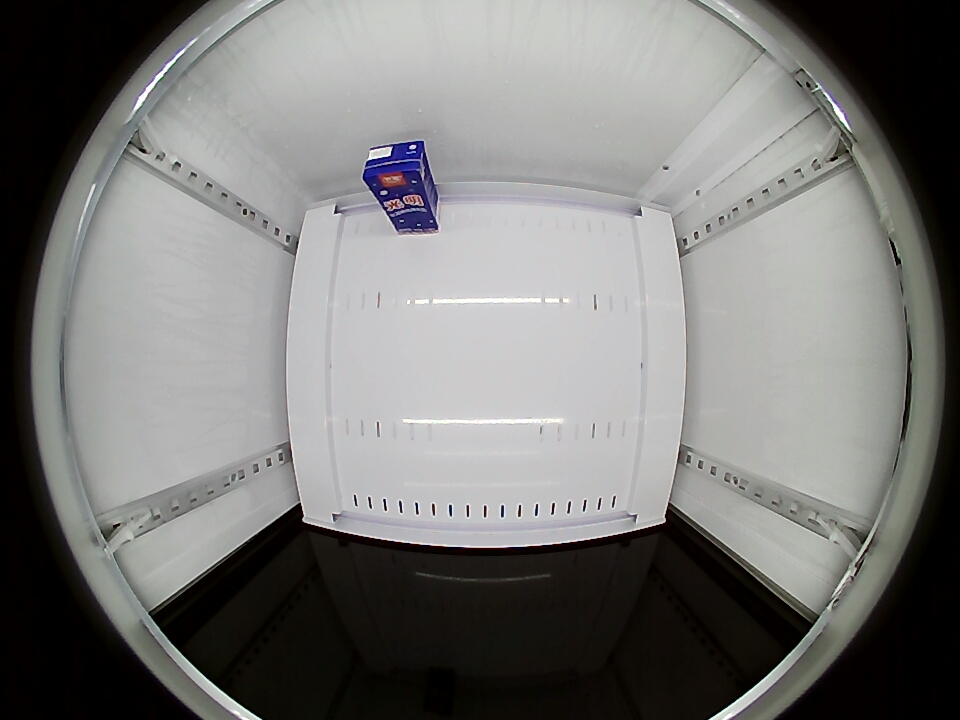bingqilinniunai: (362, 140, 431, 197)
